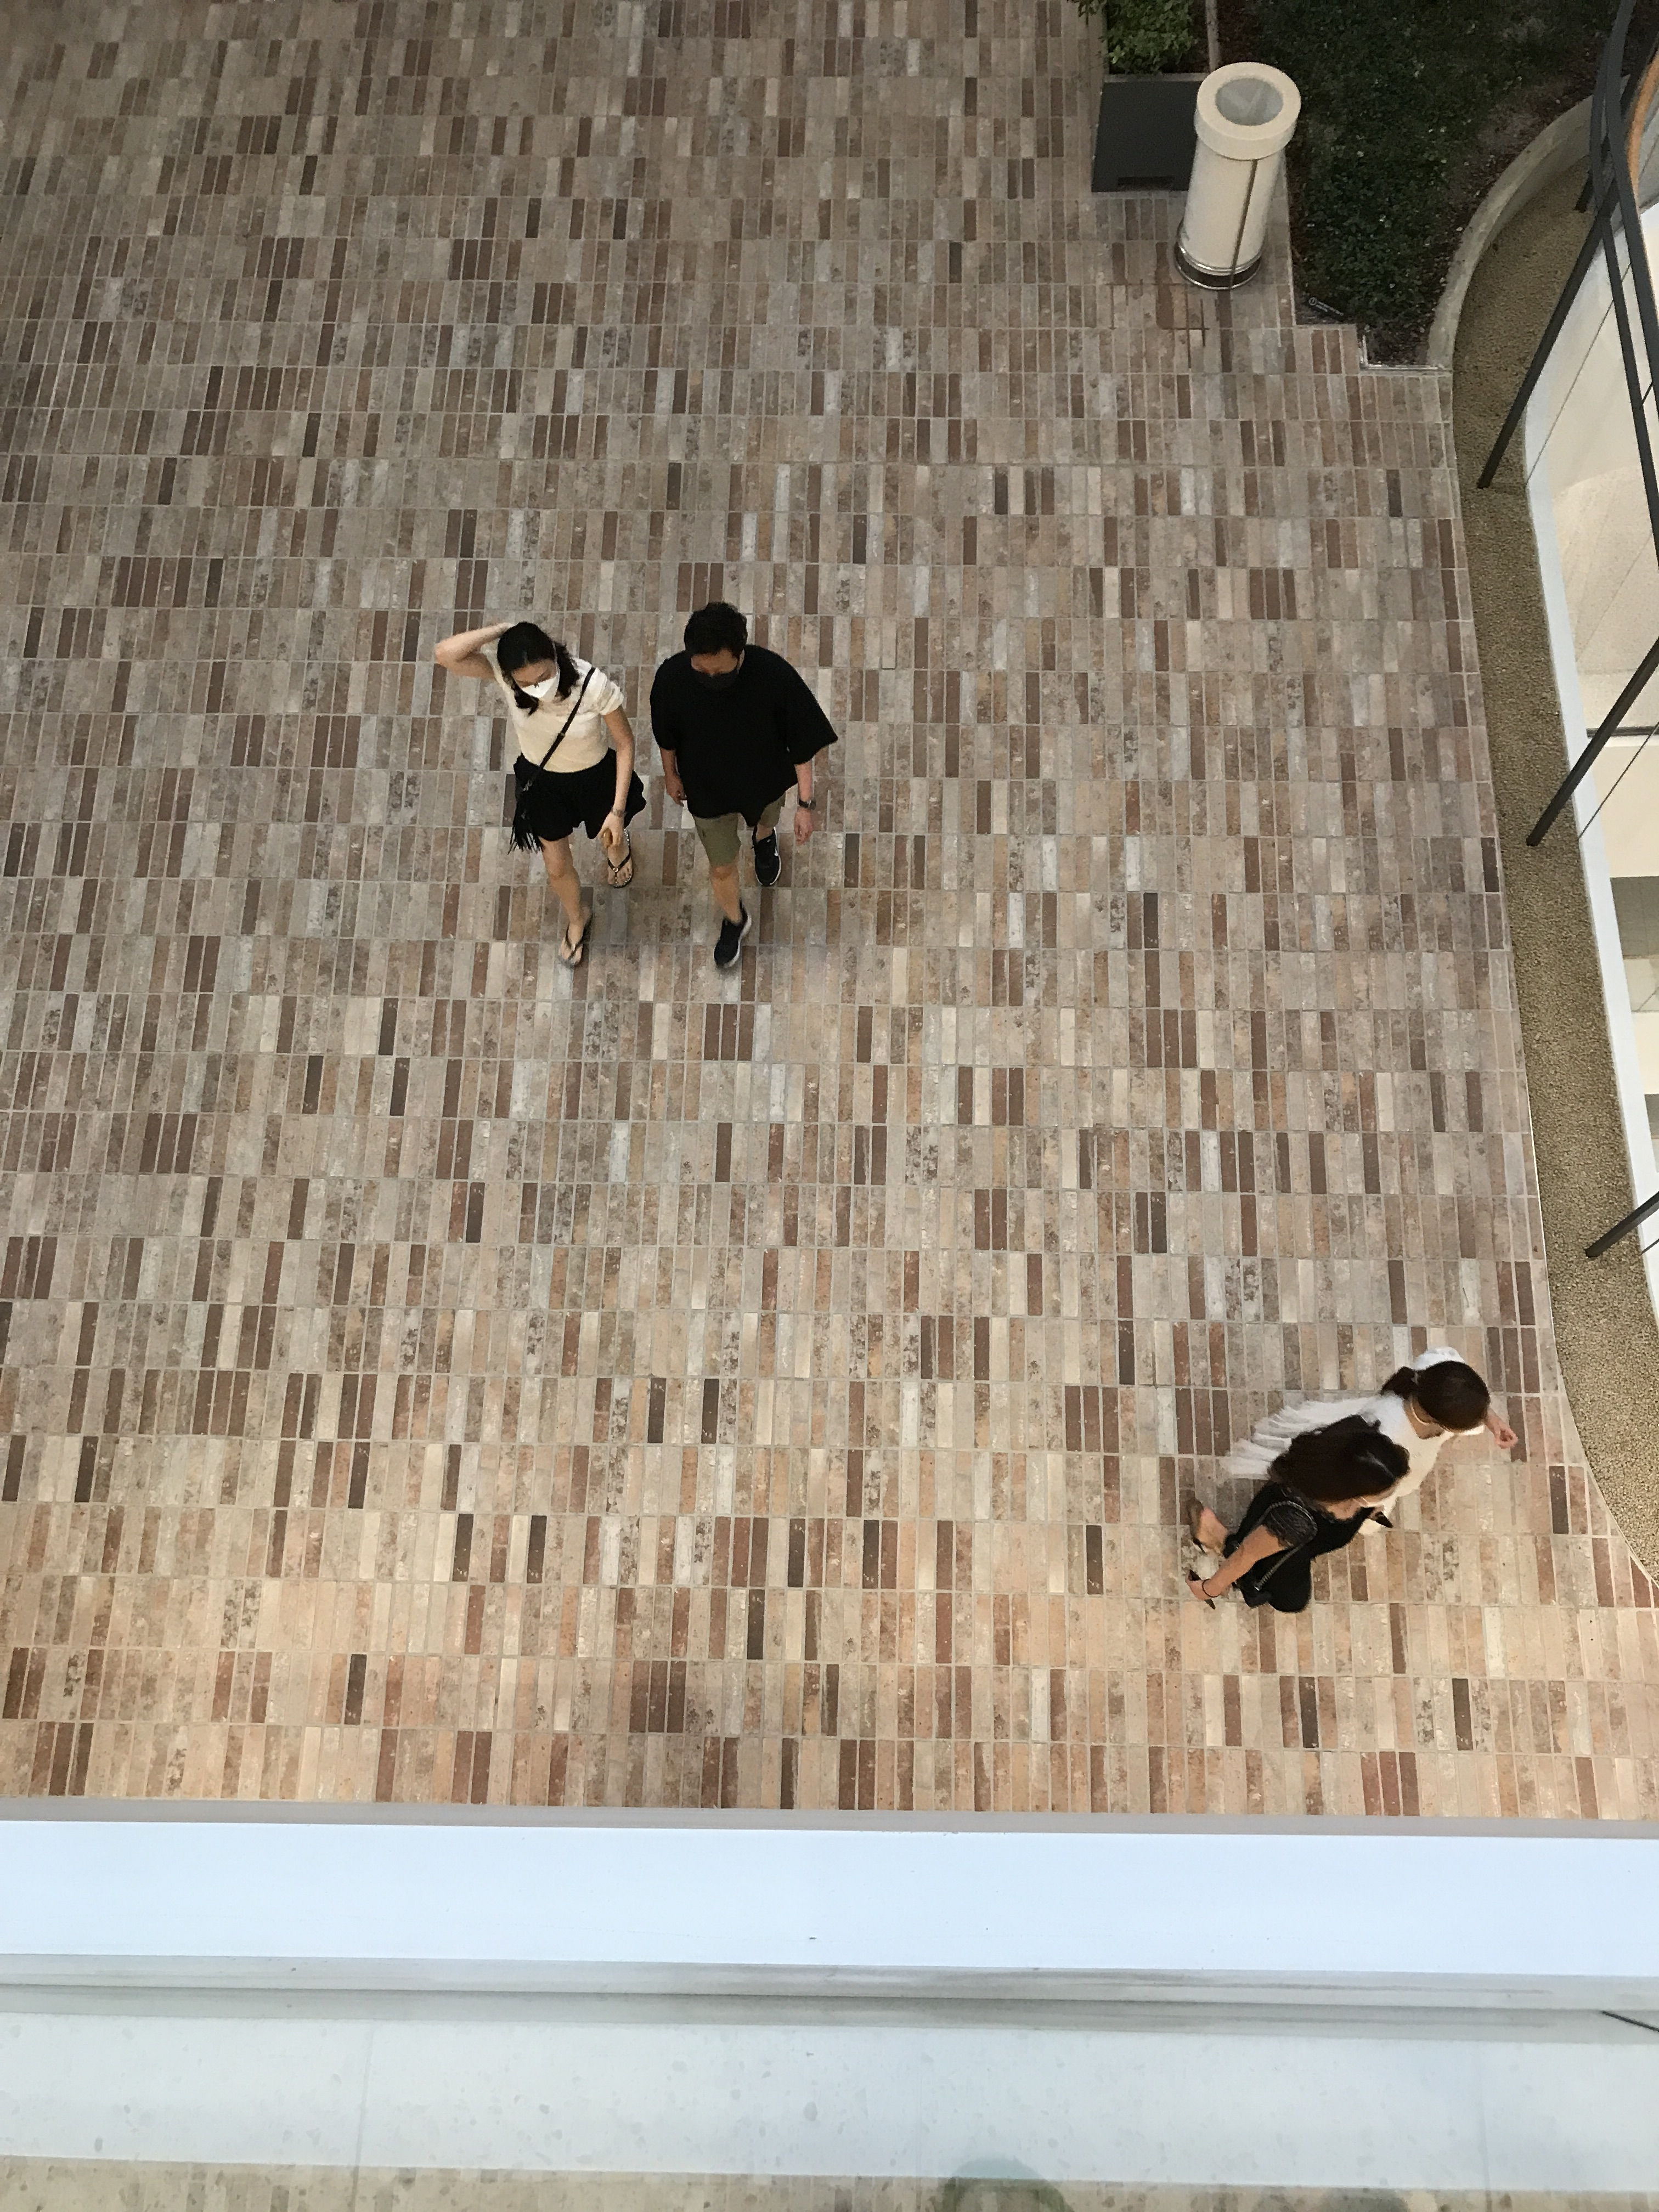person: (445, 613, 655, 967), (646, 592, 826, 970), (1222, 1345, 1515, 1534), (1195, 1418, 1408, 1622)
